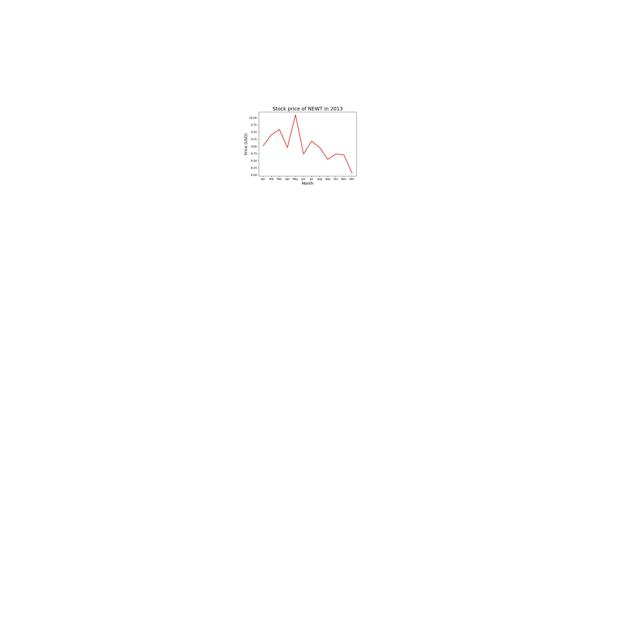Graph: (243, 96, 369, 191)
